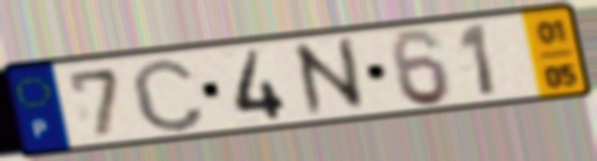1: (453, 20, 500, 101)
4: (230, 46, 290, 123)
6: (387, 26, 455, 109)
7: (63, 64, 125, 139)
C: (126, 55, 209, 135)
N: (287, 33, 373, 121)
